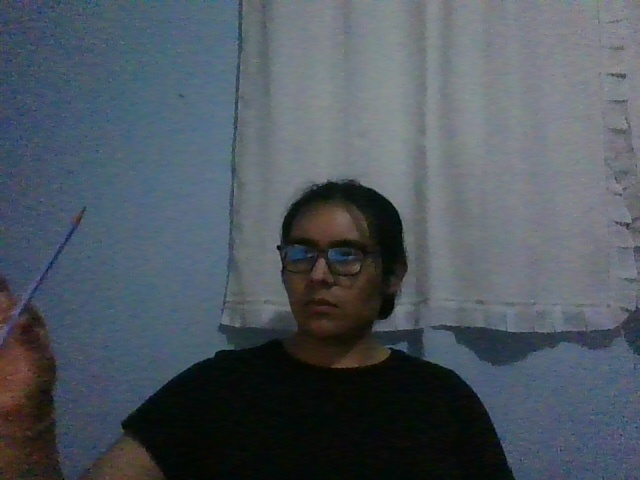lapiz: (1, 205, 88, 345)
